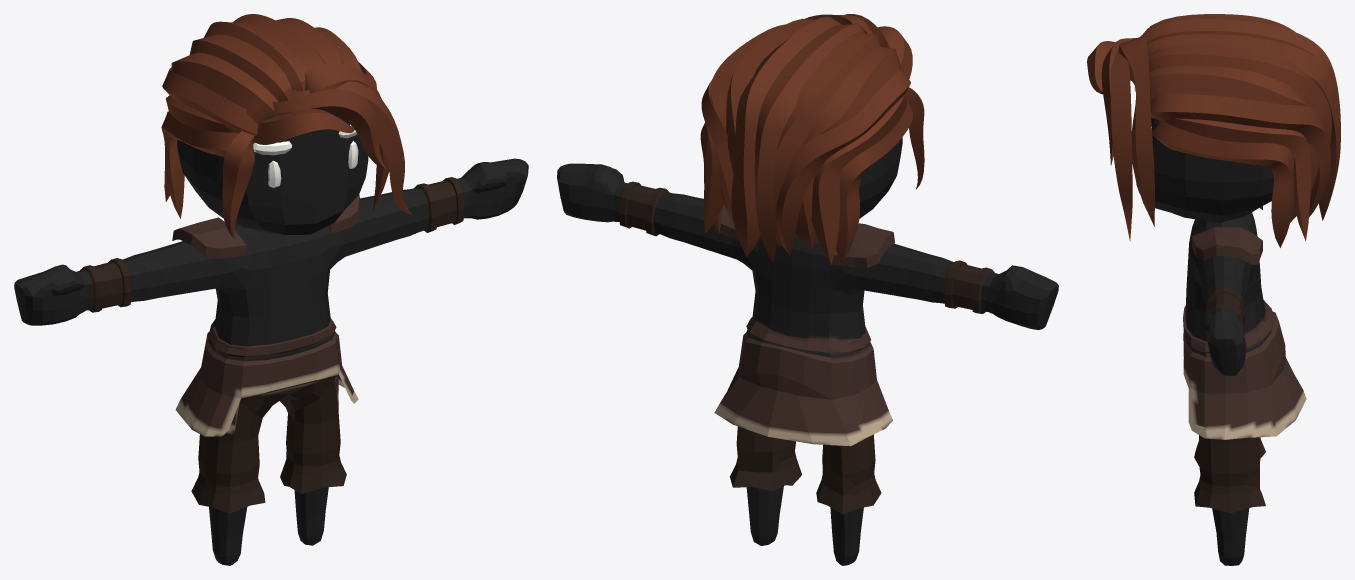
File: Viking_Female.fbx
The picture shows the model from 3 angles, left to right: view 1: azimuth 30°, elevation 25°; view 2: azimuth 150°, elevation 25°; view 3: azimuth 270°, elevation 25°; orthographic projection. The views are drawn at different scales.
Visible parts, largest first — view 1: Body; view 2: Body; view 3: Body.
Part boxes in pixels (x1,y1,x2,y2): Body: (14,14,528,565); Body: (557,14,1058,565); Body: (1087,14,1340,565).
Bounding box in the file's own units: 324 × 320 × 142.
Materials: 1 (1 with a texture image).
